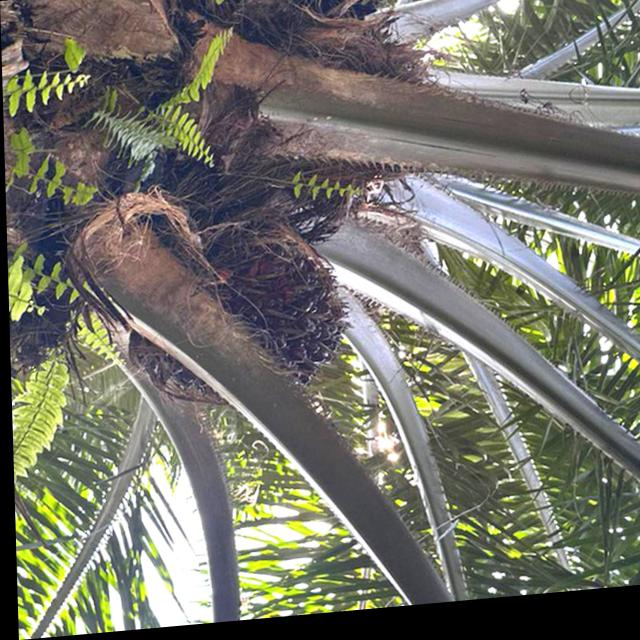ripe: (120, 207, 367, 418)
